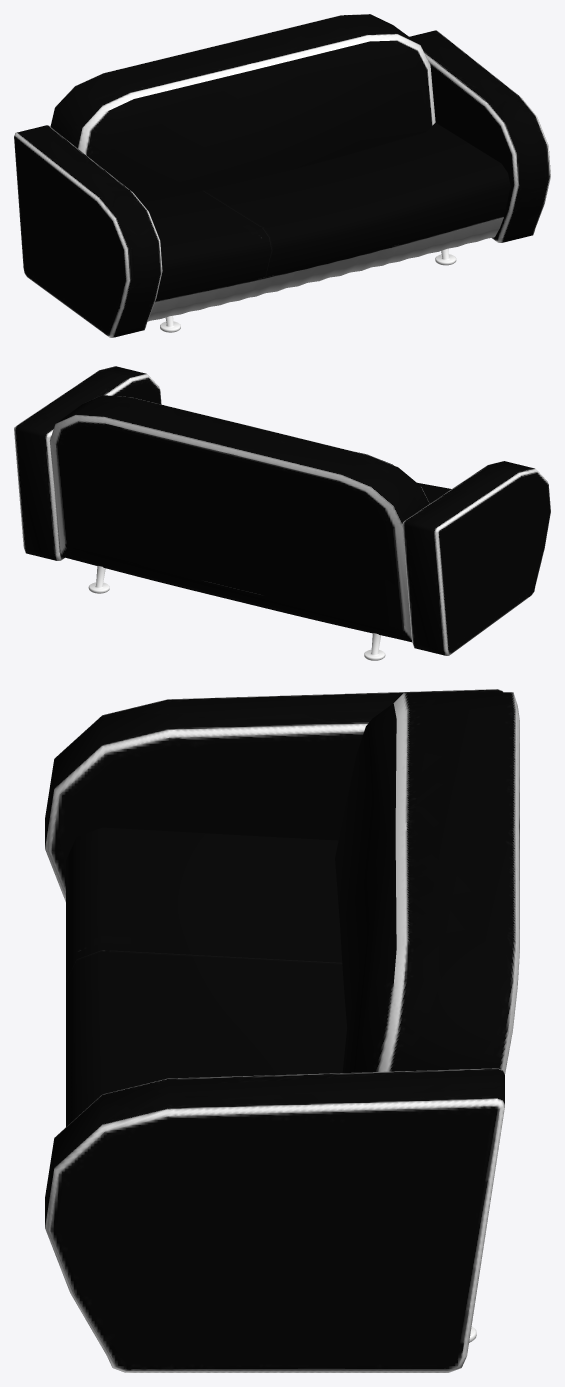
The model's file is sofa-leather-black.glb.
The picture shows the model from 3 angles, top to bottom: view 1: azimuth 30°, elevation 25°; view 2: azimuth 150°, elevation 25°; view 3: azimuth 270°, elevation 25°; orthographic projection. The views are drawn at different scales.
Visible parts, largest first — view 1: Cube; view 2: Cube; view 3: Cube.
Boxes of the visible parts, x1=… form: Cube: x1=14, y1=14, x2=550, y2=337; Cube: x1=14, y1=366, x2=550, y2=660; Cube: x1=45, y1=689, x2=519, y2=1372.
Bounding box in the file's own units: 2.01 × 0.85 × 0.9716.
Materials: 4 (3 with a texture image).
